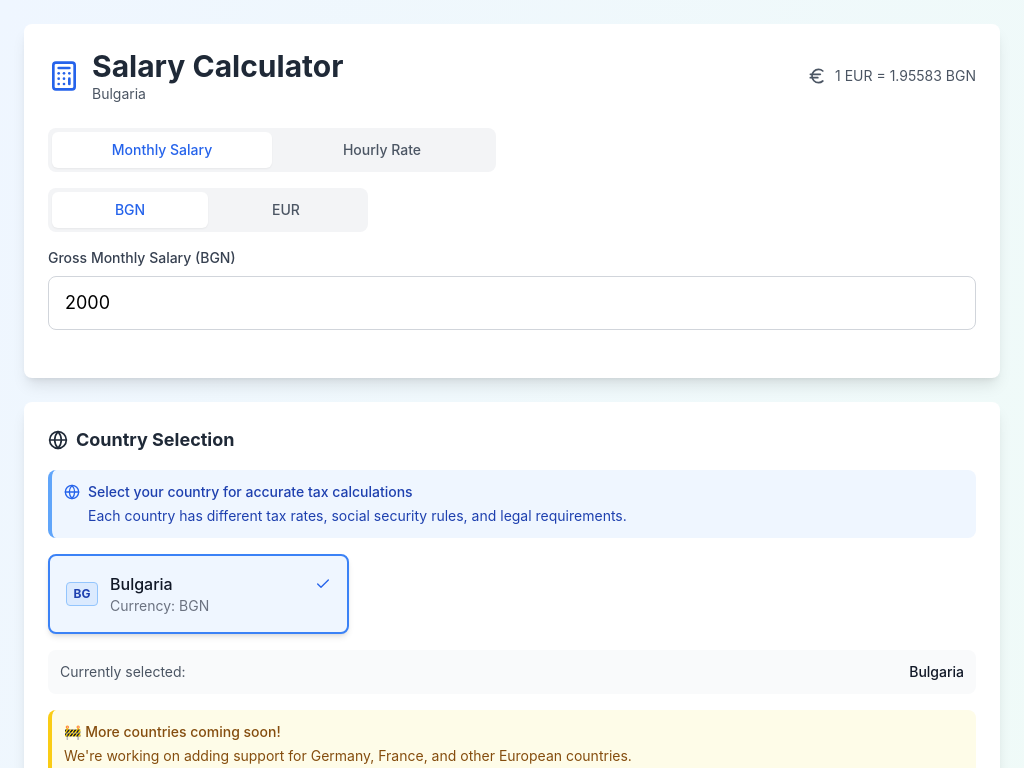
Test: Salary Calculator Integration Tests › Complete calculator flow › should switch between monthly and hourly modes correctly
# Switch to hourly mode
Click the button "Hourly Rate". click: [382, 150]
box: [272,132,492,168]
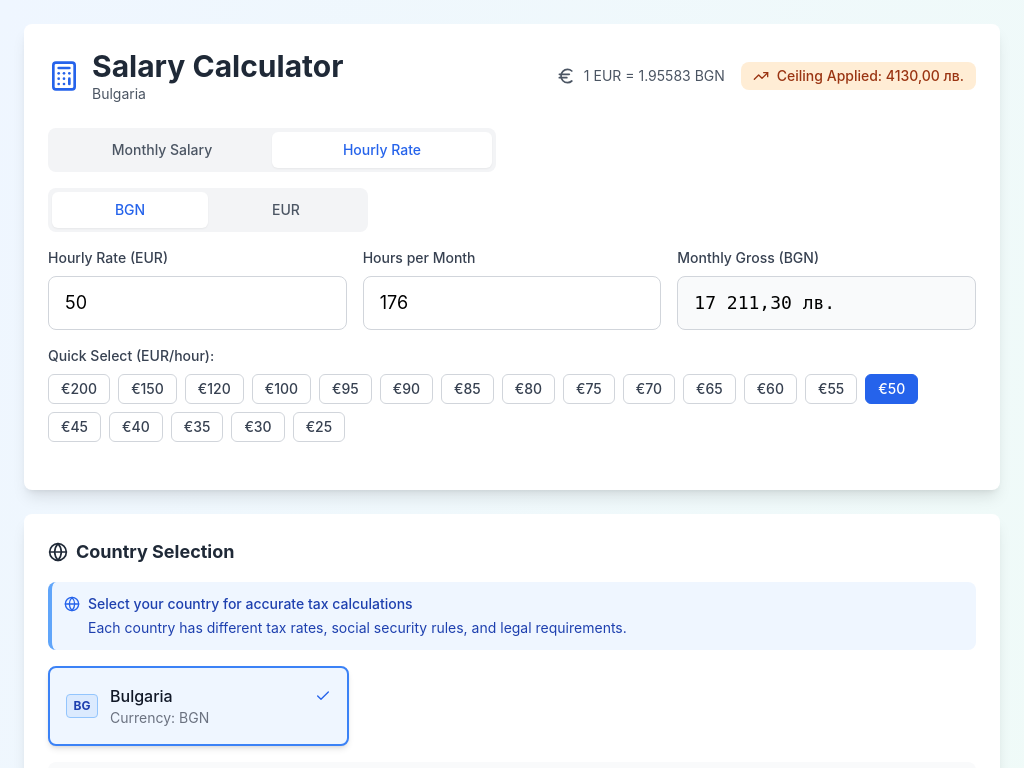
Check: the number field showing "50" below "Hourly Rate (EUR)" is shown, box [48,276,347,330]
Check: the 2nd number field showing "176" is shown, box [363,276,661,330]
Check: the text "Monthly Gross (BGN)" is shown, box [677,249,819,266]
# Switch back to monthly mode
Click the button "Monthly Salary". click: [162, 150]
box: [52,132,272,168]
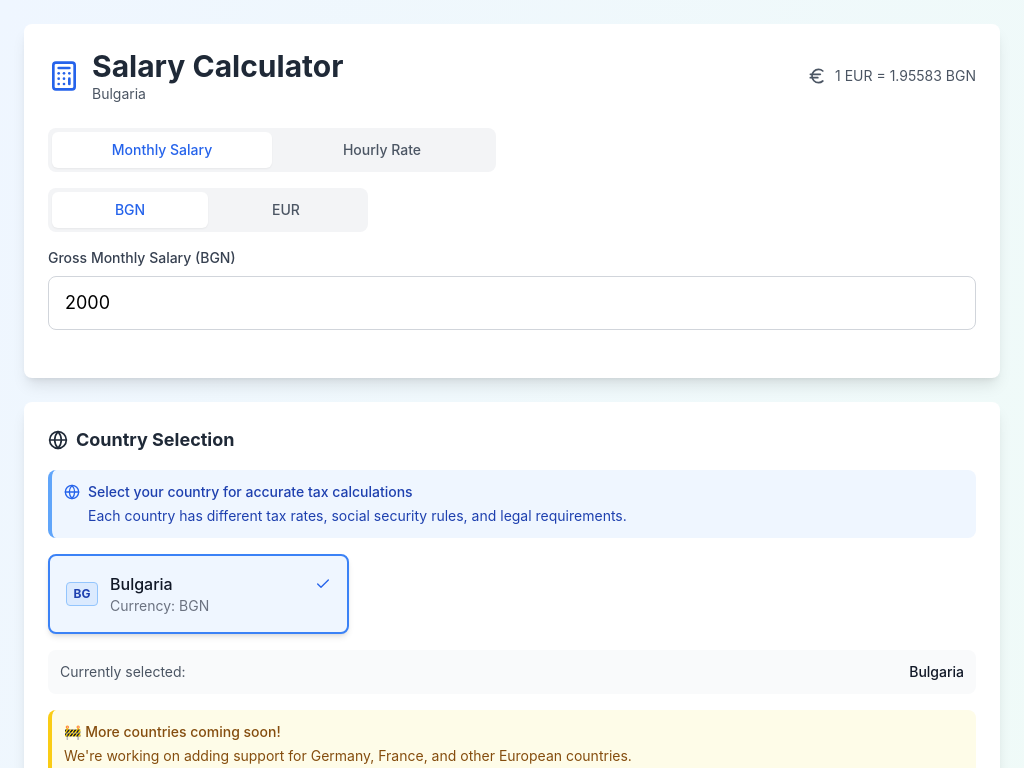
Check: the number field showing "2000" is shown, box [48,276,976,330]
